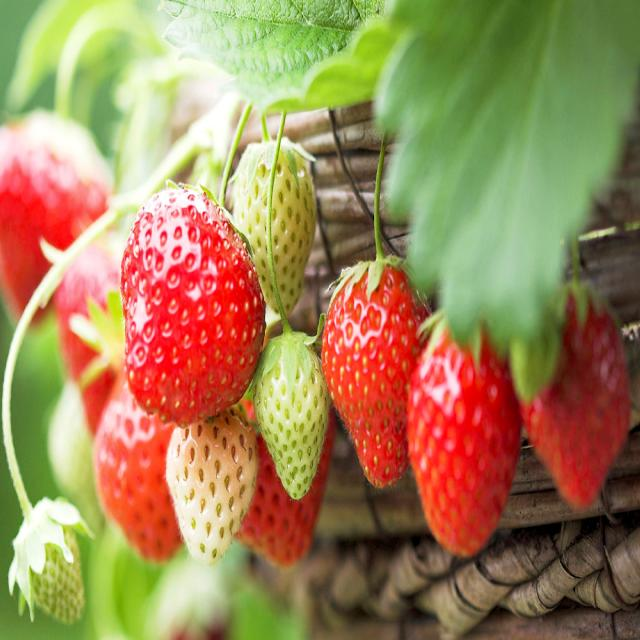ripe: (110, 159, 262, 416), (394, 300, 524, 581), (516, 269, 638, 523), (322, 241, 426, 524)
unripe: (233, 121, 320, 323), (167, 408, 263, 579), (11, 481, 104, 640), (264, 302, 333, 502)
